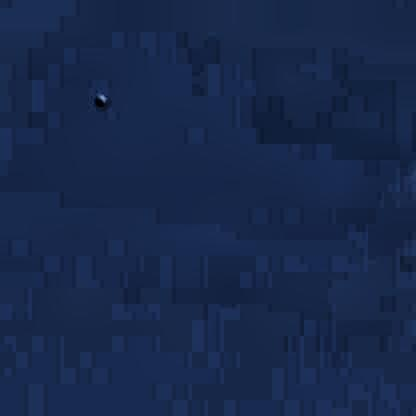golfball: (92, 90, 105, 106)
